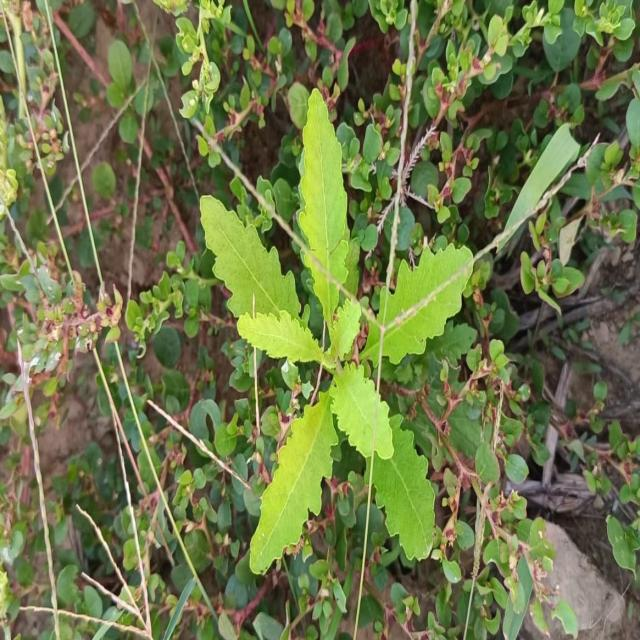weed: (201, 89, 435, 572), (364, 244, 473, 364)
